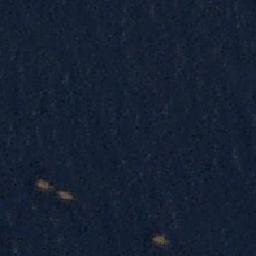debris: (33, 178, 55, 193), (149, 233, 172, 247), (58, 189, 77, 201)
